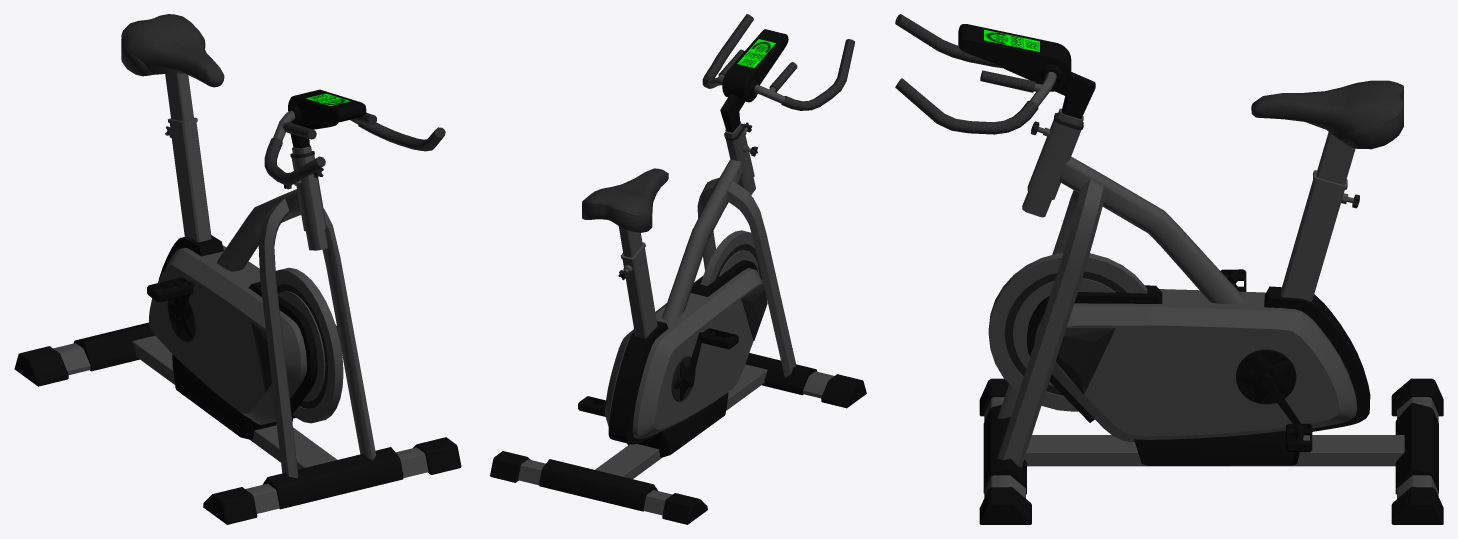
The model's file is Exercise bike.FBX.
3 views of the same model, side by side, from view 1: azimuth 30°, elevation 25°; view 2: azimuth 150°, elevation 25°; view 3: azimuth 270°, elevation 25° (orthographic). The views are drawn at different scales.
Visible parts, largest first — view 1: Body, Seat, Disc, Pedal, Pedal_R; view 2: Body, Seat, Disc, Pedal, Pedal_R; view 3: Body, Seat, Disc, Pedal, Pedal_L.
Part boxes in pixels (x1,y1,x2,y2): Body: [14, 89, 461, 524]; Seat: [121, 14, 224, 121]; Disc: [275, 267, 343, 423]; Pedal: [167, 281, 196, 342]; Pedal_R: [147, 277, 193, 302]; Body: [490, 14, 866, 524]; Seat: [582, 168, 668, 257]; Disc: [700, 230, 763, 285]; Pedal: [671, 332, 702, 401]; Pedal_R: [699, 328, 738, 349]; Body: [895, 14, 1443, 524]; Seat: [1251, 80, 1403, 184]; Disc: [988, 253, 1147, 411]; Pedal: [1236, 349, 1300, 423]; Pedal_L: [1286, 423, 1312, 452].
Size of the model in its own units: 0.664 by 1.23 by 1.07.
